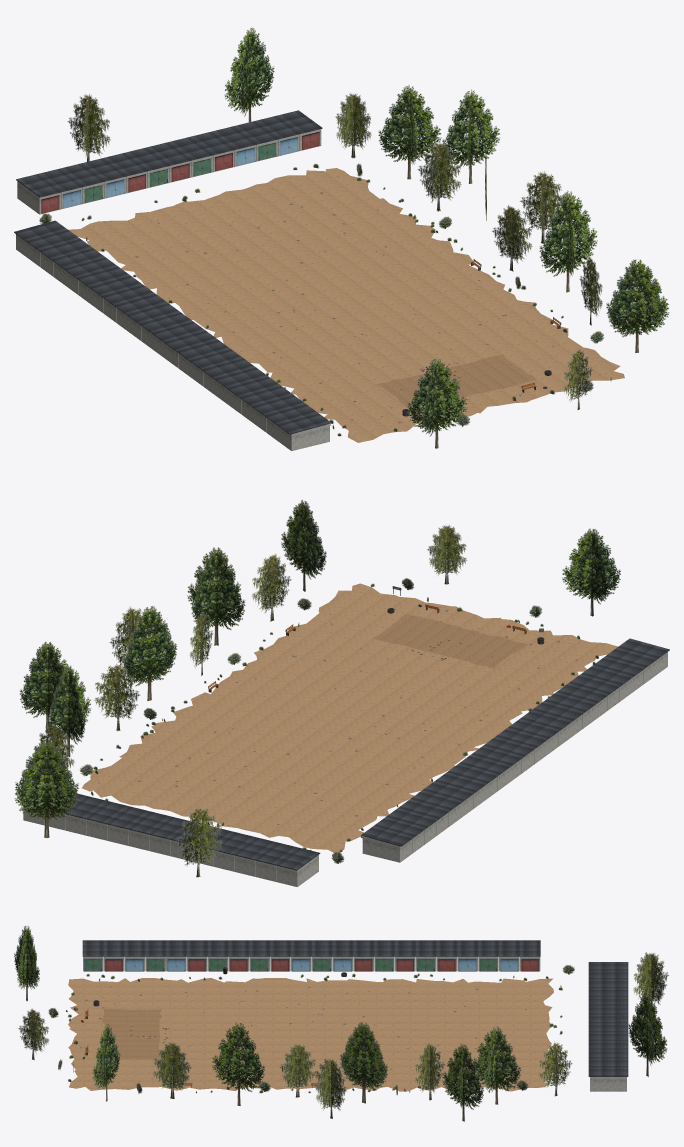
File: field.gltf
The picture shows the model from 3 angles, top to bottom: view 1: azimuth 30°, elevation 25°; view 2: azimuth 150°, elevation 25°; view 3: azimuth 270°, elevation 25°; orthographic projection. The views are drawn at different scales.
Parts seen in each view (by area): view 1: court, clay-dom, tree2-1, tree6-1, tree13-1, tree11-0, tree8-0, tree0-0, tree0-1, tree12-1, tree9-1, tree5-0 (+9 smaller); view 2: court, clay-dom, tree8-1, tree11-1, tree2-1, tree8-0, tree4-1, tree9-0, tree0-1, tree4-0, tree5-1, tree13-0 (+15 smaller); view 3: court, clay-dom, tree2-0, tree6-0, tree13-0, tree8-1, tree4-0, tree4-1, tree0-0, tree7-1, tree1-0, tree9-1 (+49 smaller).
Boxes of the visible parts, x1,y1,x2,y2 form: court: [68, 168, 624, 442]; clay-dom: [376, 354, 536, 409]; tree2-1: [539, 191, 597, 292]; tree6-1: [378, 86, 441, 179]; tree13-1: [442, 90, 500, 183]; tree11-0: [407, 358, 467, 448]; tree8-0: [224, 27, 274, 121]; tree0-0: [606, 259, 669, 352]; tree0-1: [607, 259, 667, 352]; tree12-1: [519, 172, 565, 243]; tree9-1: [67, 94, 110, 161]; tree5-0: [417, 143, 461, 210]; court: [82, 583, 617, 852]; clay-dom: [372, 614, 527, 668]; tree8-1: [14, 740, 78, 837]; tree11-1: [562, 528, 620, 615]; tree2-1: [187, 547, 245, 645]; tree8-0: [15, 740, 78, 838]; tree4-1: [121, 605, 177, 700]; tree9-0: [175, 807, 222, 877]; tree0-1: [281, 500, 326, 591]; tree4-0: [122, 607, 176, 700]; tree5-1: [94, 665, 140, 730]; tree13-0: [19, 642, 69, 732]; court: [68, 978, 553, 1091]; clay-dom: [102, 1009, 161, 1059]; tree2-0: [211, 1022, 264, 1105]; tree6-0: [472, 1027, 521, 1104]; tree13-0: [442, 1043, 483, 1121]; tree8-1: [628, 992, 667, 1076]; tree4-0: [340, 1022, 387, 1103]; tree4-1: [340, 1022, 387, 1103]; tree0-0: [92, 1023, 120, 1101]; tree7-1: [538, 1042, 572, 1096]; tree1-0: [152, 1042, 191, 1098]; tree9-1: [633, 953, 669, 1005].
Size of what is drawn, in the model's own units: 63.57 by 14 by 99.32.
24 materials, 19 textured.
